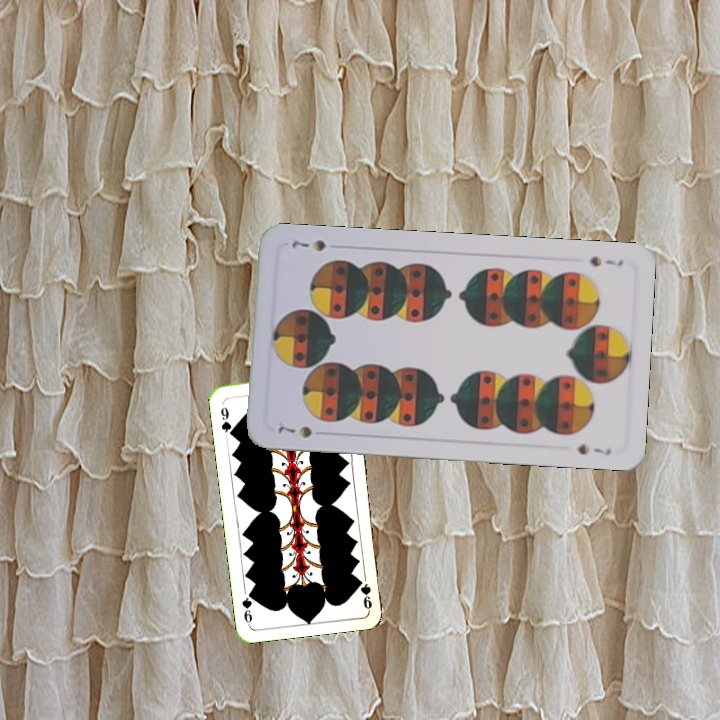G9: (354, 574, 374, 613), (217, 403, 236, 439)
S7: (274, 421, 315, 441), (585, 252, 626, 269)
